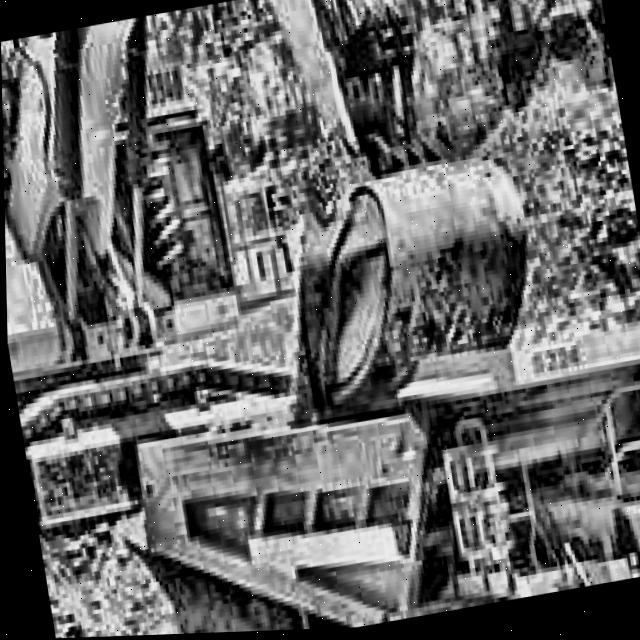dump_truck: (92, 273, 640, 637)
excavator: (0, 0, 569, 544)
